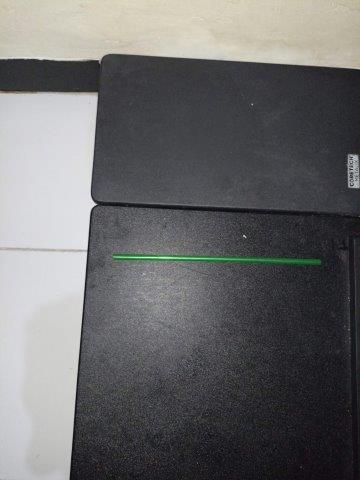sedotan: (113, 253, 321, 266)
